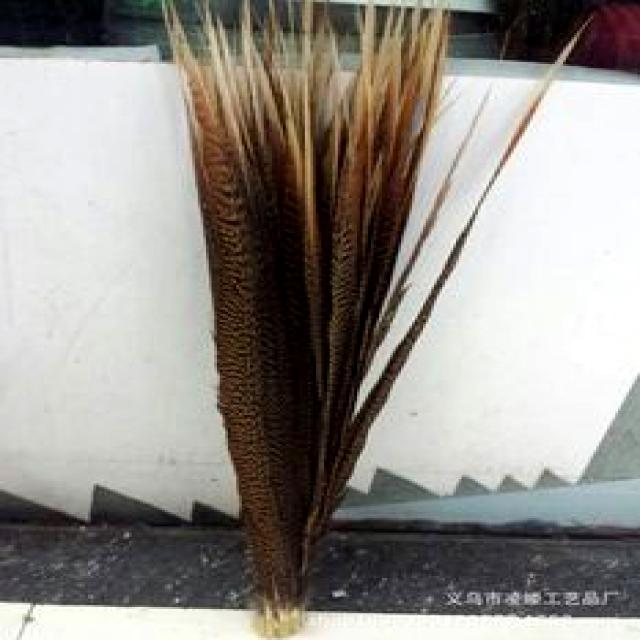Chrysolophus pictus feather: (165, 0, 448, 636)
